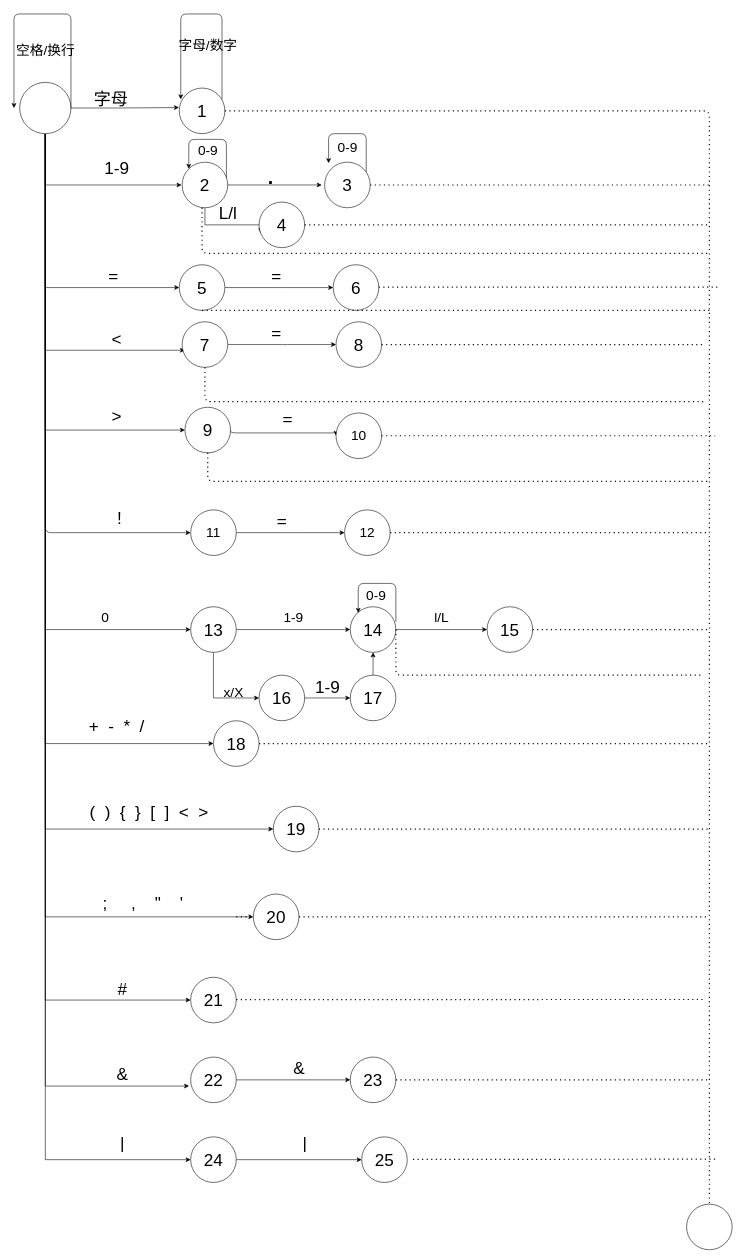
Image size: 742x1260. Some labels were removed from this diagram. The centre of each missing label's shape, as x and y in pixels:
"END" belongs at pixel 709 1227.
"START" belongs at pixel 45 108.
